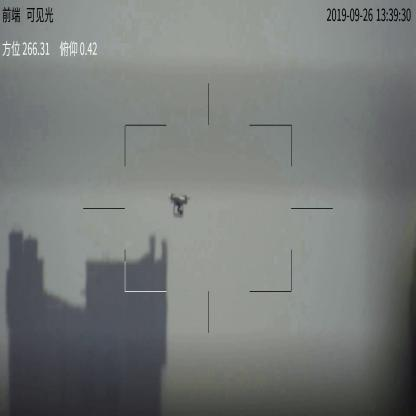uav: (166, 191, 190, 218)
